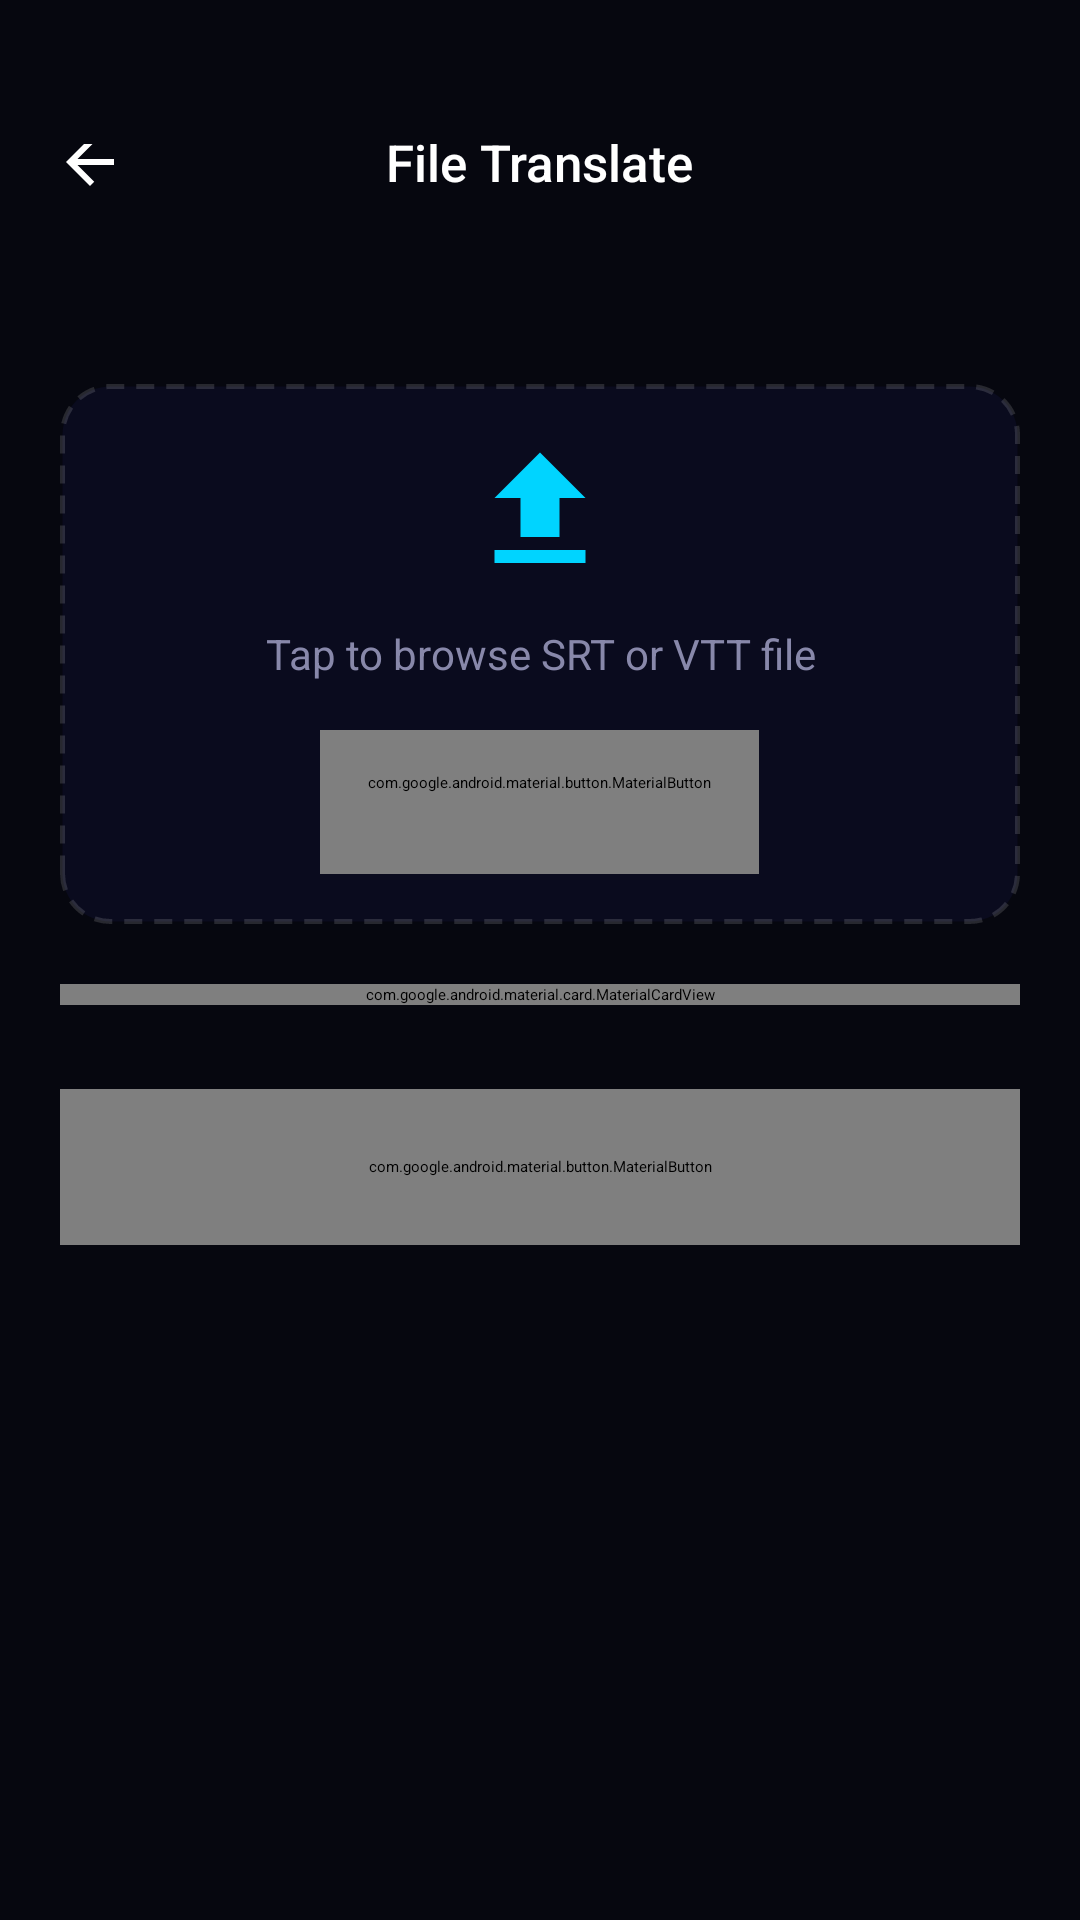

Screen size 1080w x 1920h. Icon name, then its center in pixels as [x,y]:
Back: [90,165]
upload file: [540,507]
